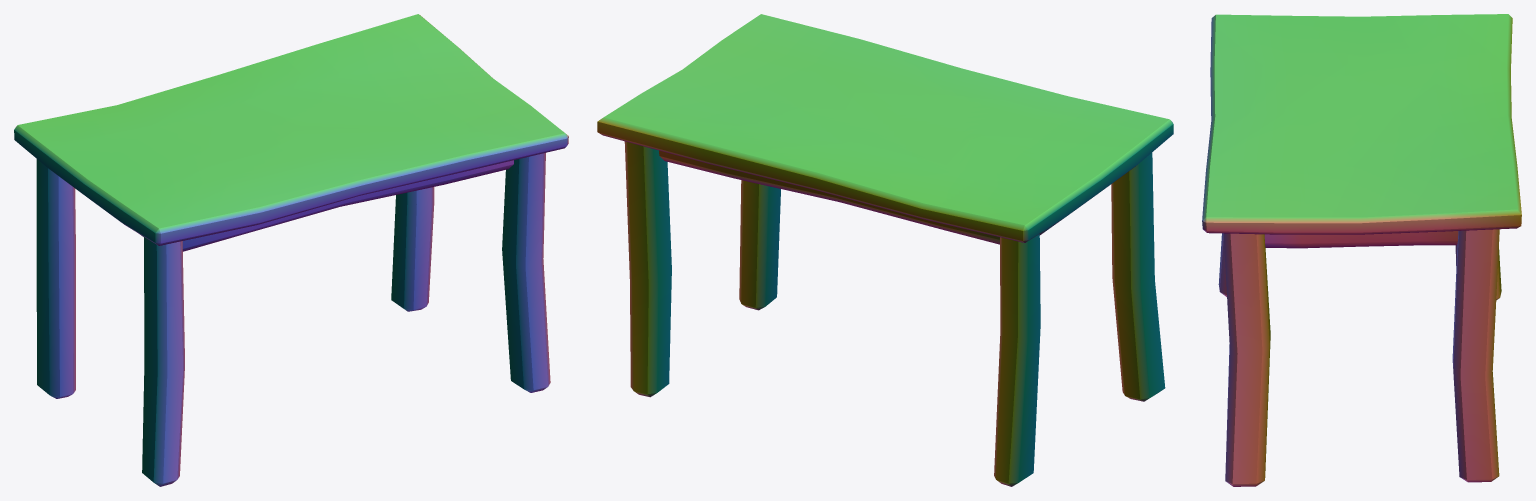
Rendered from SM_table01.fbx.
3 renders of one model, left to right at view 1: azimuth 30°, elevation 25°; view 2: azimuth 150°, elevation 25°; view 3: azimuth 270°, elevation 25°, orthographic. The views are drawn at different scales.
Parts seen in each view (by area): view 1: SM_table01; view 2: SM_table01; view 3: SM_table01.
Boxes of the visible parts, x1,y1,x2,y2 form: SM_table01: (14, 14, 568, 486); SM_table01: (597, 14, 1173, 486); SM_table01: (1202, 14, 1521, 486).
Size of the model in its own units: 3.87 by 2.44 by 2.5.
